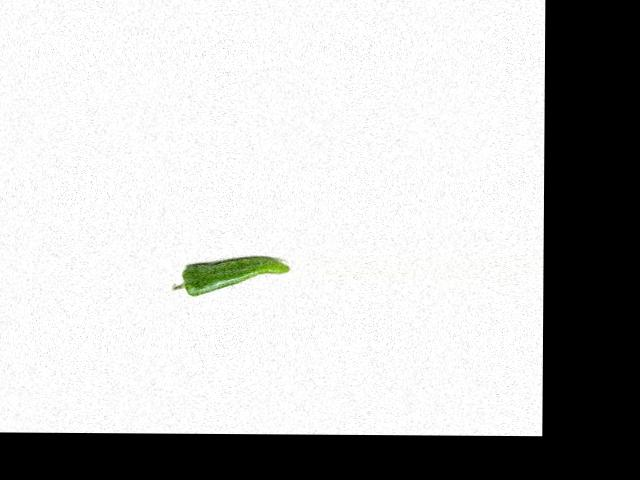bell_pepper: (168, 253, 290, 299)
